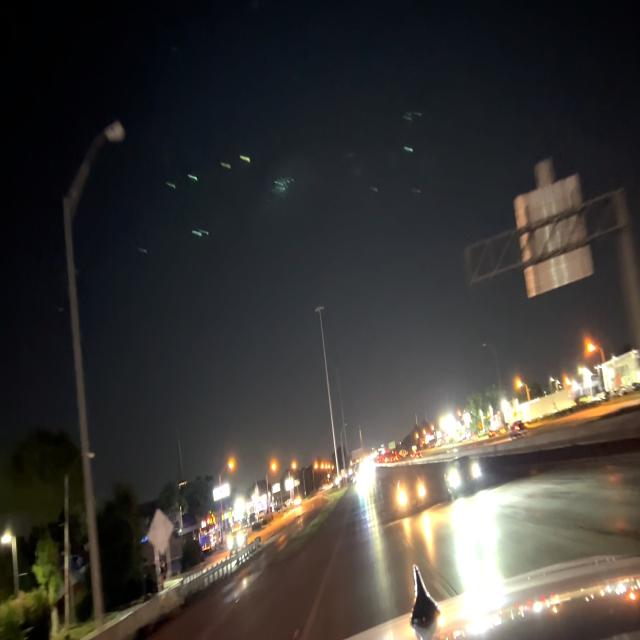back-of-sign: (516, 159, 594, 302), (148, 510, 174, 554)
